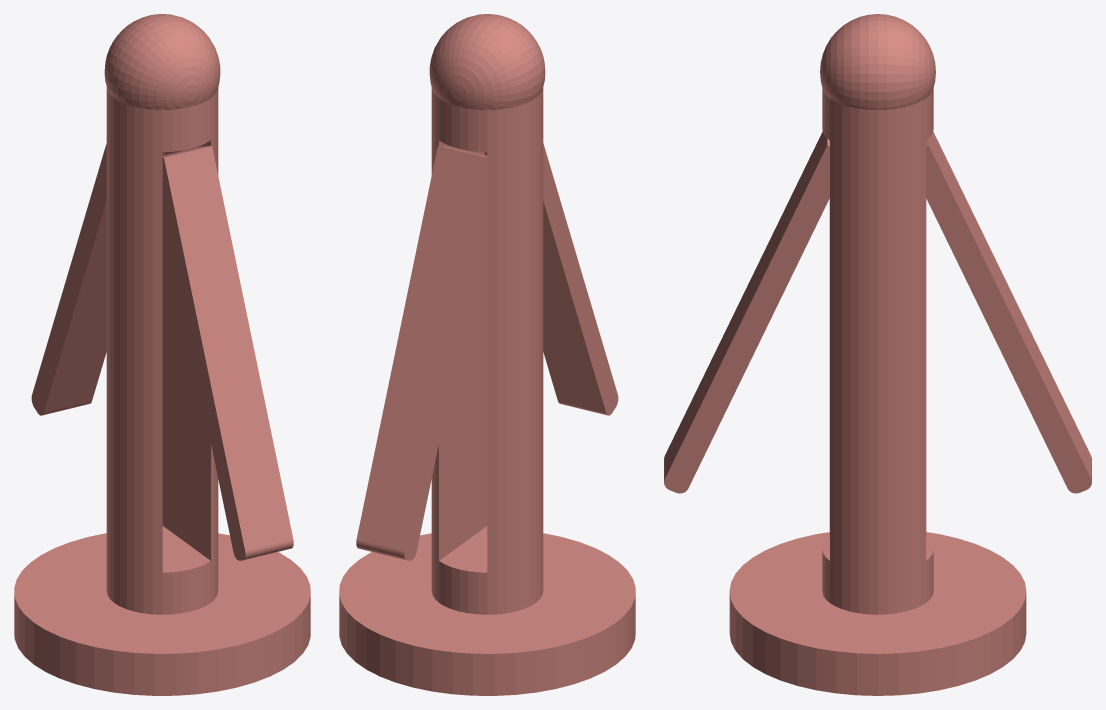
Rendered from WristRoll.dae.
3 renders of one model, left to right at view 1: azimuth 30°, elevation 25°; view 2: azimuth 150°, elevation 25°; view 3: azimuth 270°, elevation 25°, orthographic.
Visible parts, largest first — view 1: WristRoll; view 2: WristRoll; view 3: WristRoll.
Part boxes in pixels (x1,y1,x2,y2): WristRoll: (14,14,310,695); WristRoll: (339,14,635,695); WristRoll: (664,14,1091,695).
Size of the model in its own units: 0.032 by 0.0461 by 0.073.
